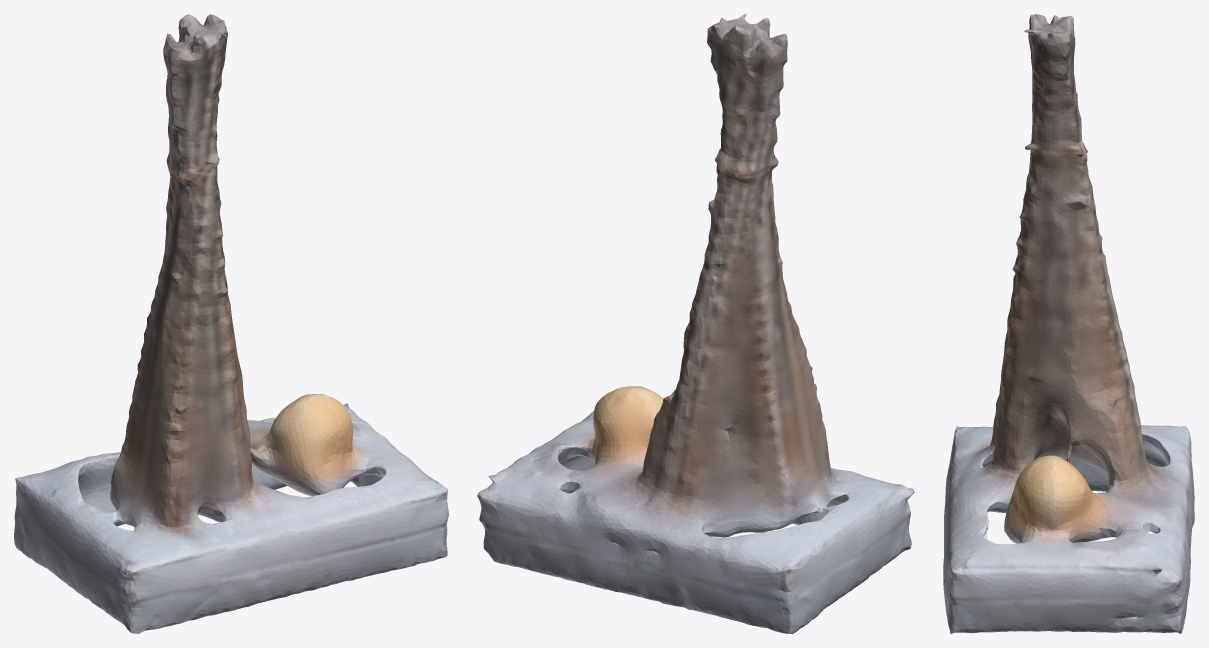
File: chat_chuyen.glb
3 renders of one model, left to right at view 1: azimuth 30°, elevation 25°; view 2: azimuth 150°, elevation 25°; view 3: azimuth 270°, elevation 25°, orthographic. The views are drawn at different scales.
Size of the model in its own units: 0.6448 by 1.03 by 0.4376.
Materials: 1 (1 with a texture image).
